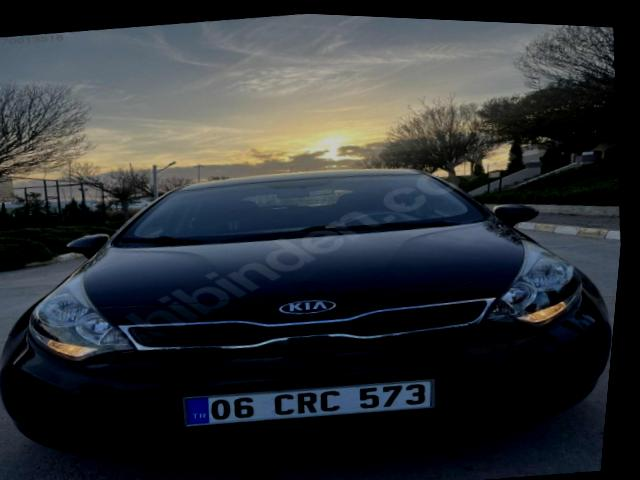plaka: (183, 379, 435, 427)
